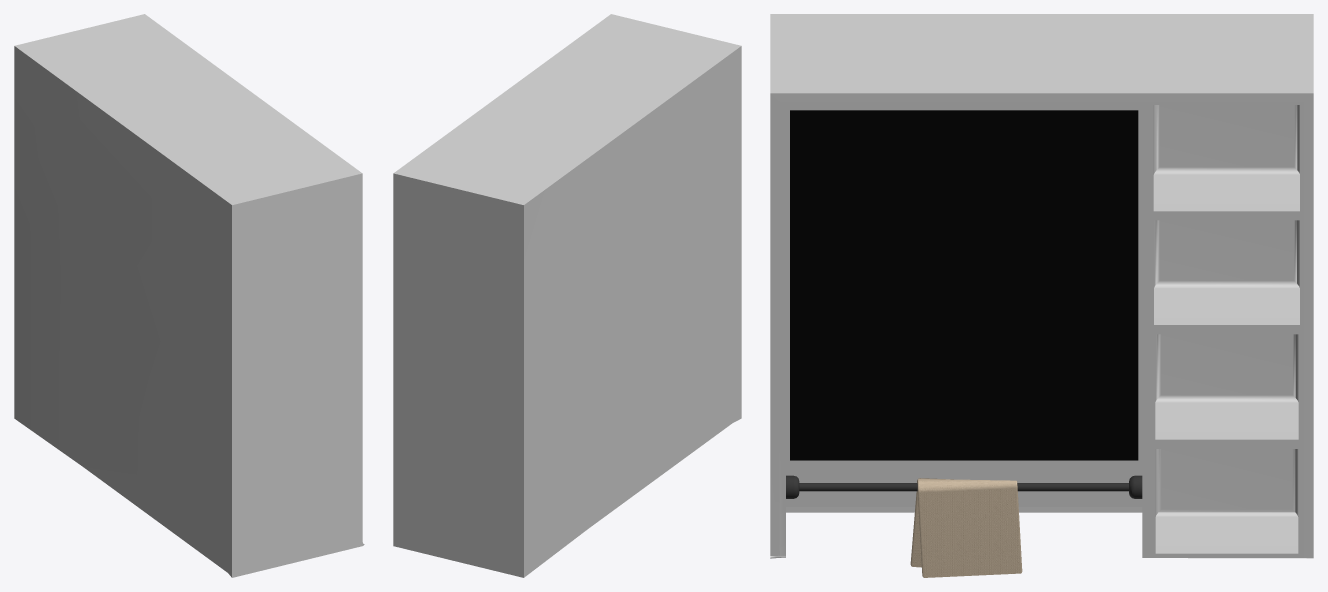
The model's file is shelf.fbx.
3 renders of one model, left to right at view 1: azimuth 30°, elevation 25°; view 2: azimuth 150°, elevation 25°; view 3: azimuth 270°, elevation 25°, orthographic. The views are drawn at different scales.
Visible parts, largest first — view 1: shelf; view 2: shelf; view 3: shelf.
Boxes of the visible parts, x1,y1,x2,y2 form: shelf: [14, 14, 364, 577]; shelf: [393, 14, 741, 577]; shelf: [770, 14, 1313, 577].
Size of the model in its own units: 0.0182 by 0.0531 by 0.0518.
4 materials, 1 textured.
